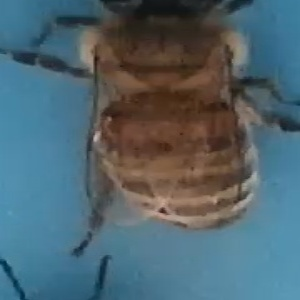bee: (13, 2, 300, 259)
